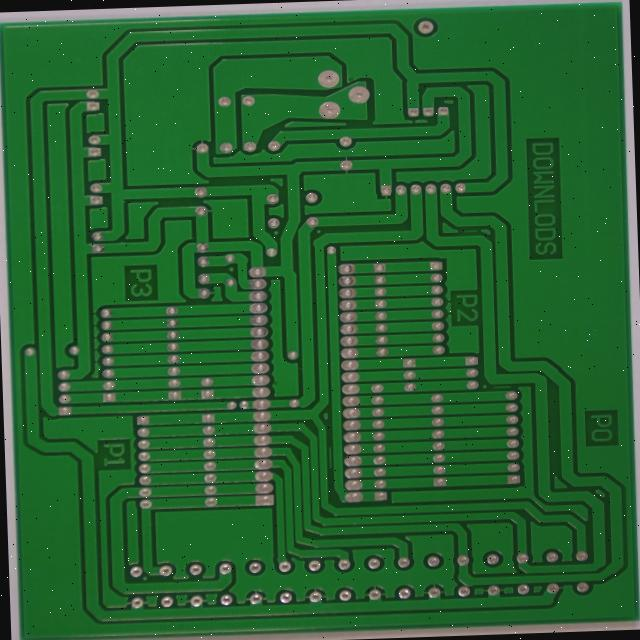spurious_copper: (351, 434, 362, 459), (531, 366, 554, 376), (499, 200, 517, 212)
